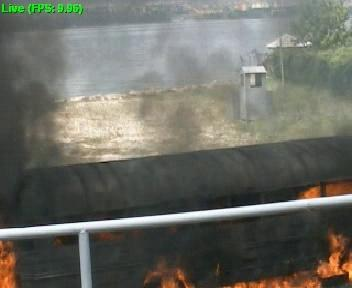fire: (314, 257, 348, 288)
smoke: (0, 4, 84, 186)
